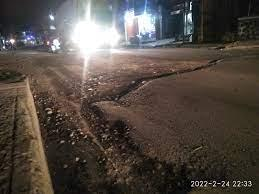Pothole: (31, 58, 259, 194)
